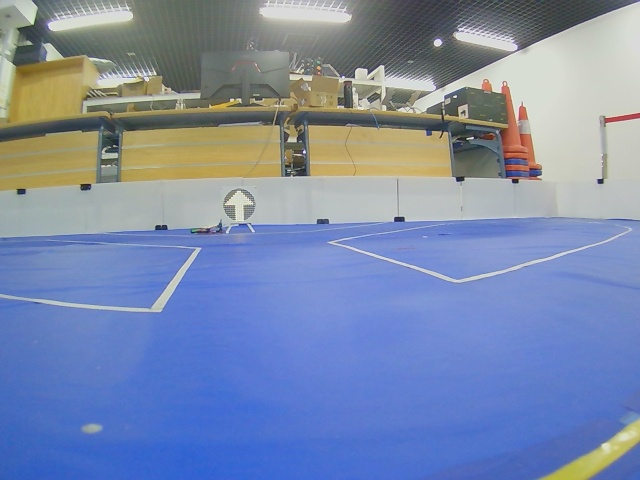straight_yellow: (222, 186, 257, 224)
